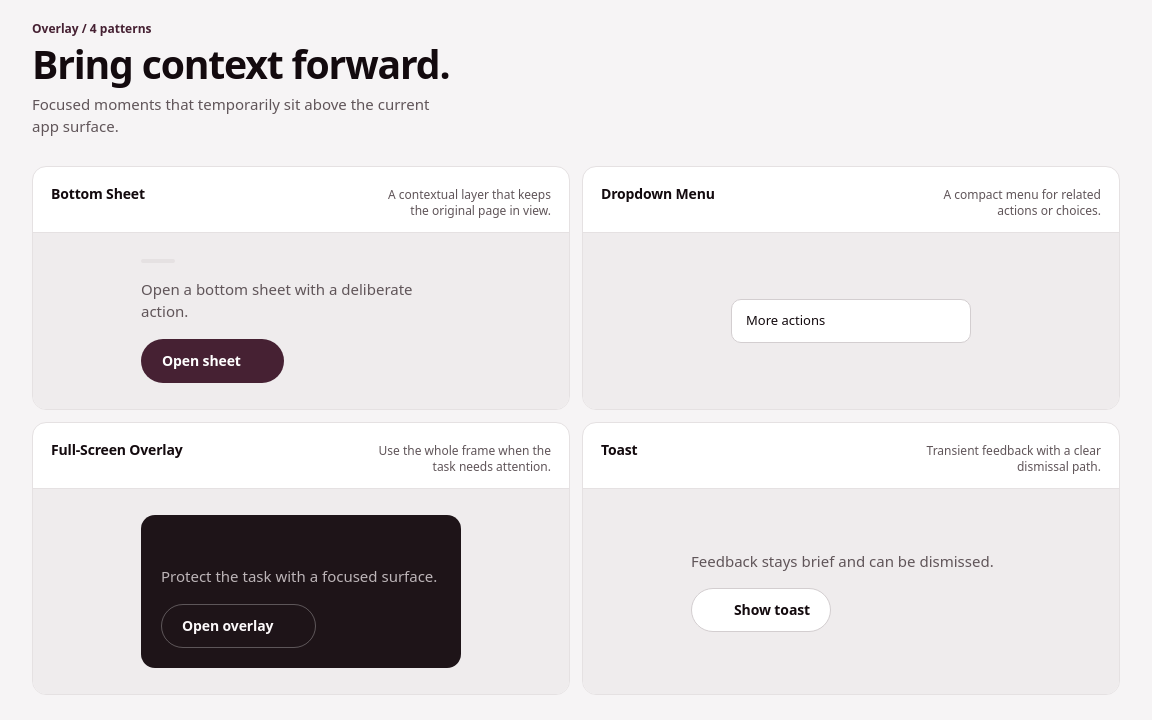
Test: DesignSystemGallery › opens and closes the bottom sheet with a focused dialog
(page scrolled)
Click the button "Open sheet" at (212, 361), box [141,339,284,383]
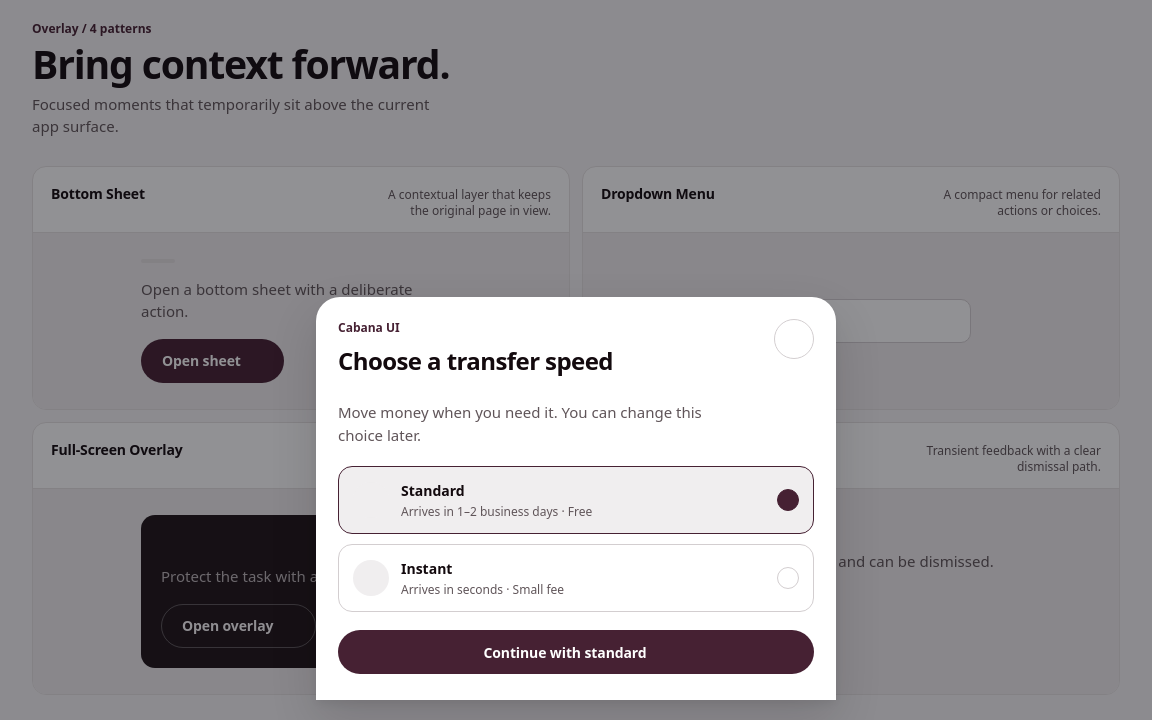
Now the dialog "Choose a transfer speed" is shown, box [316,297,836,700]
Click the button named "Close" at (794, 339), box [774,319,814,359]
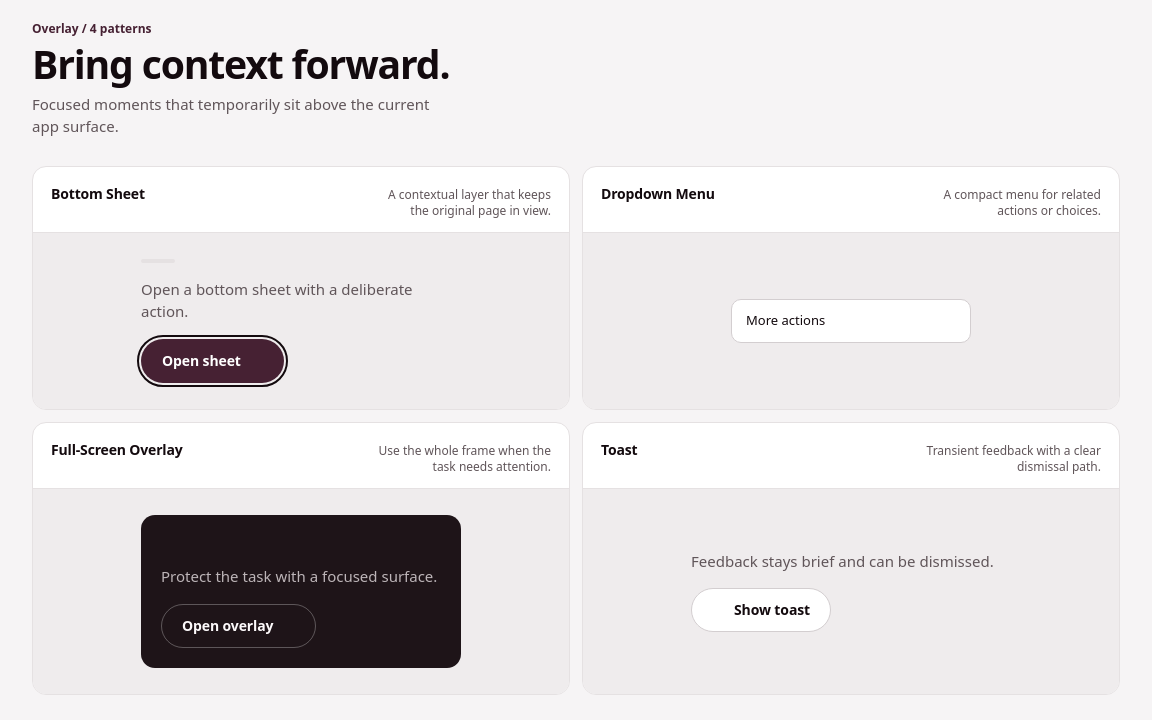
Now the heading "Choose a transfer speed" is gone
